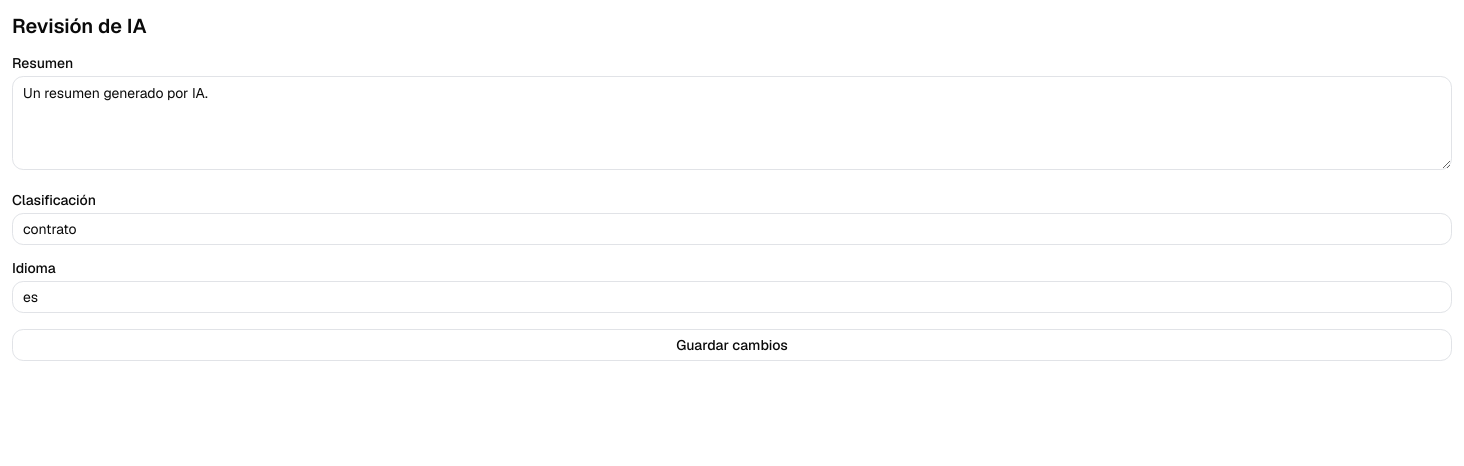
ReviewStep (spec: AI Analysis Display + Review Edit) › shows the edit-conflict message and refreshes instead of showing the failed edit as applied on 409 (INV-21)
Replace the text in the text box labelled "Resumen" with "Un intento de edición tardío." at (732, 123), box [12,76,1452,170]
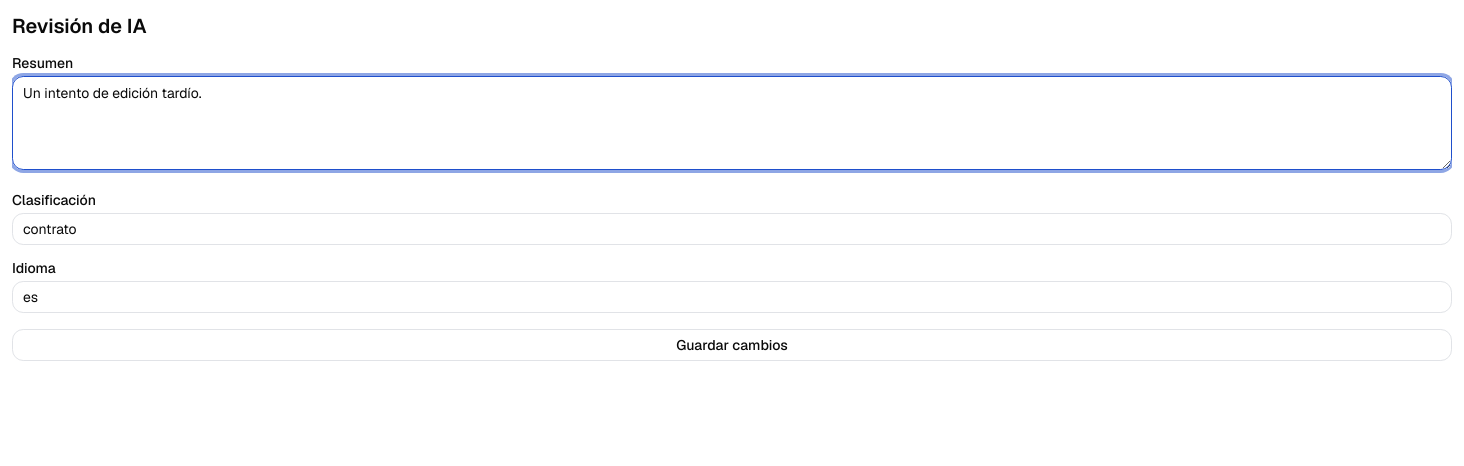
Click the button "Guardar cambios".
click(732, 345)  # box [12,329,1452,361]
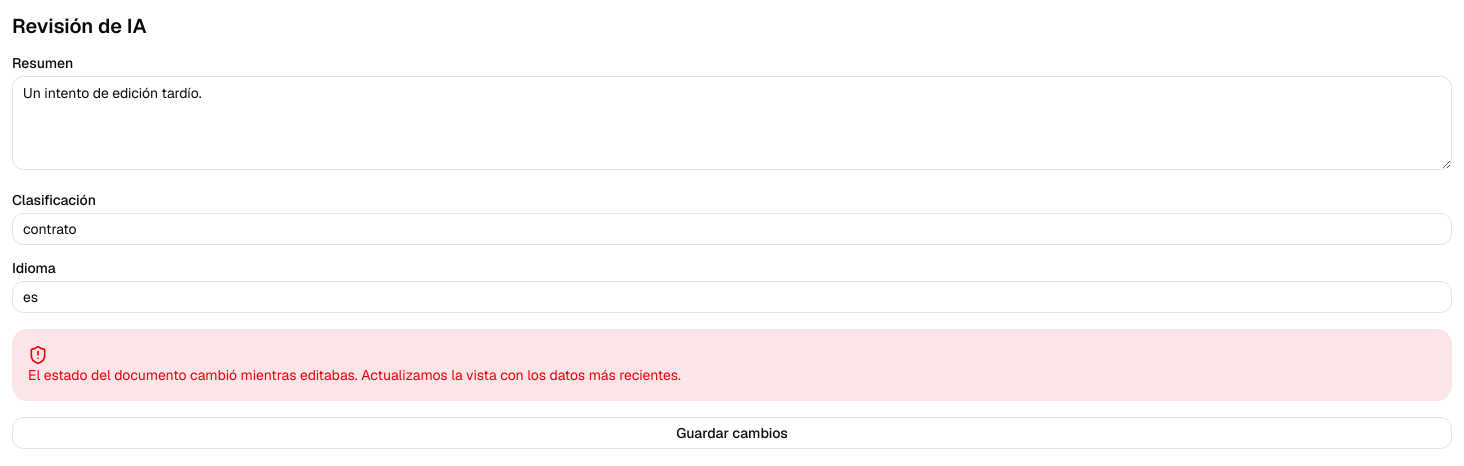
Expected: the text "El estado del documento cambió mientras editabas. Actualizamos la vista con los datos más recientes." is shown, [28,366,681,384]
